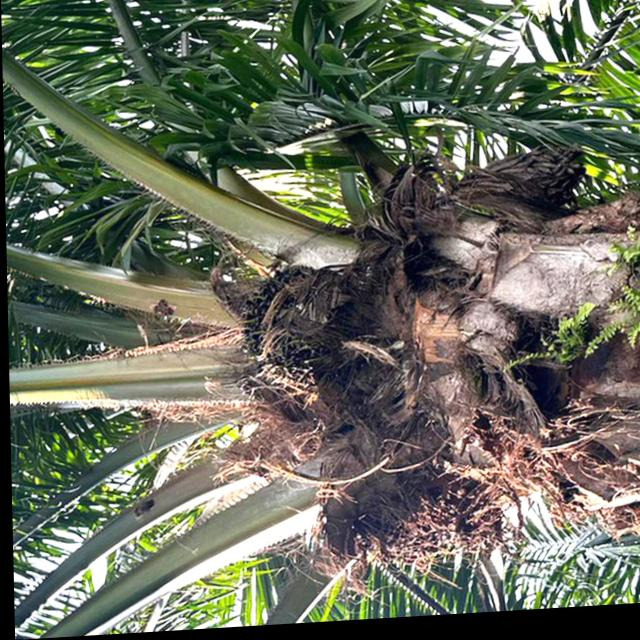ripe: (216, 260, 356, 401)
